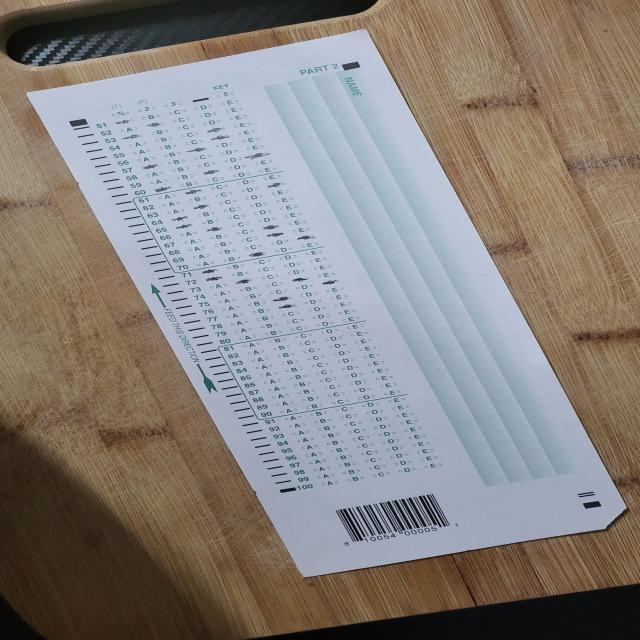scantron_back: (27, 28, 625, 579)
